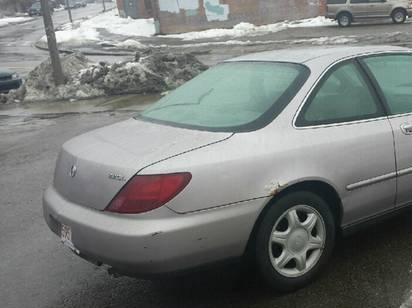acura: (35, 43, 412, 297)
